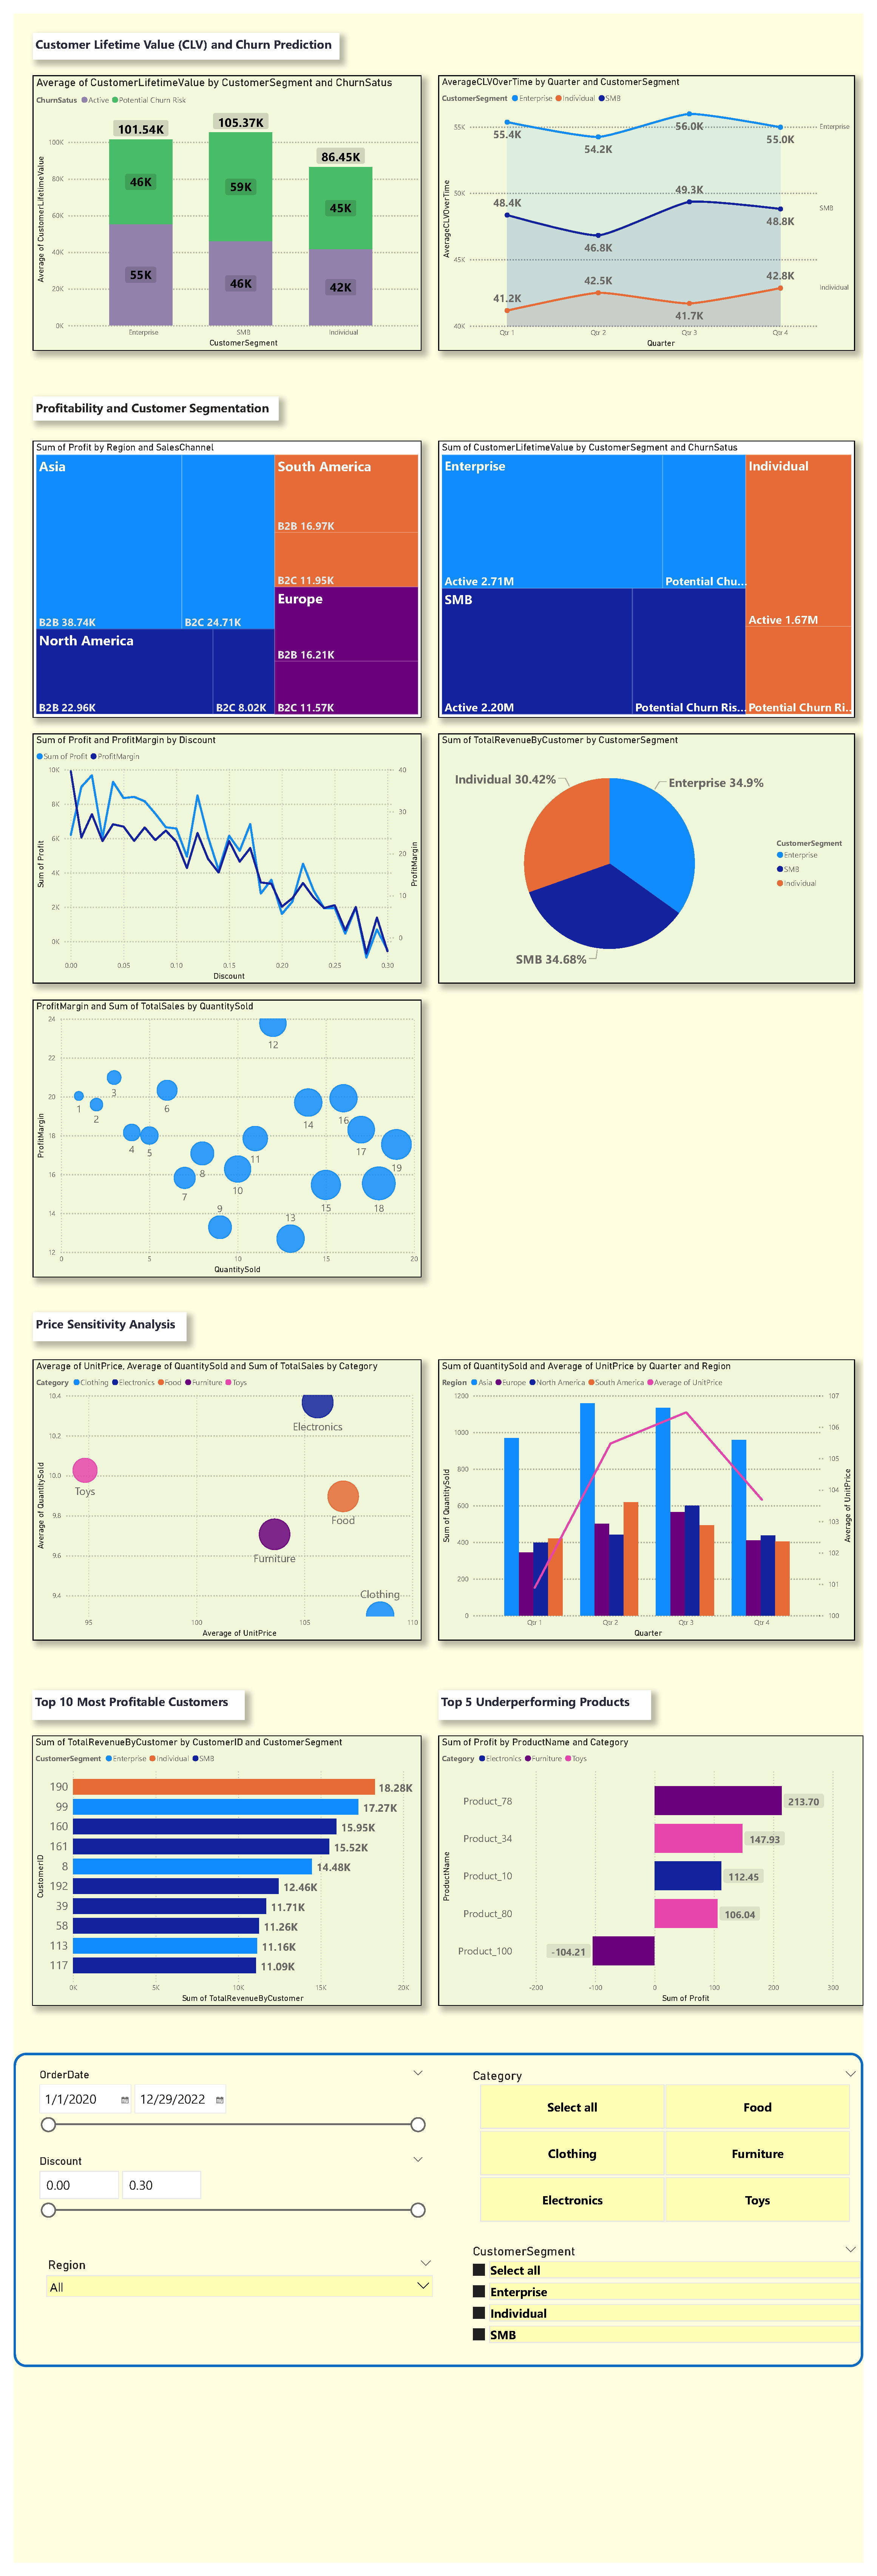

The dashboard page shown, as its layout file describes it:
{"tool":"powerbi","page":{"name":"finquest","canvas":[1500,4500],"ordinal":0},"visuals":[{"type":"shape","box":[0,3600,1500,555],"z":0},{"type":"treemap","fields":{"Group":["Orders.Region"],"Values":["Sum(Orders.Profit)"],"Details":["Orders.SalesChannel"]},"box":[33.7,753.6,686.2,489.9],"z":1000},{"type":"treemap","fields":{"Values":["Sum(Customers.CustomerLifetimeValue)"],"Group":["Customers.CustomerSegment"],"Details":["Customers.ChurnSatus"]},"box":[749.7,753.6,735.8,489.9],"z":2000},{"type":"pieChart","fields":{"Category":["Customers.CustomerSegment"],"Y":["Sum(Customers.TotalRevenueByCustomer)"]},"box":[749.7,1271.3,735.8,440.3],"z":3000},{"type":"scatterChart","fields":{"X":["Orders.QuantitySold"],"Y":["Orders.ProfitMargin"],"Size":["Sum(Orders.TotalSales)"]},"box":[33.7,1741.3,686.2,489.9],"z":4000},{"type":"lineChart","fields":{"Category":["Orders.Discount"],"Y":["Sum(Orders.Profit)"],"Y2":["Orders.ProfitMargin"]},"box":[33.7,1271.3,686.2,440.3],"z":5000},{"type":"scatterChart","fields":{"X":["Avg(Orders.UnitPrice)"],"Y":["Avg(Orders.QuantitySold)"],"Size":["Sum(Orders.TotalSales)"],"Series":["Products.Category"]},"box":[33.7,2375.9,686.2,495.8],"z":6000},{"type":"lineClusteredColumnComboChart","fields":{"Category":["Orders.OrderDate.Variation.Date Hierarchy.Quarter","Orders.OrderDate.Variation.Date Hierarchy.Month"],"Y":["Sum(Orders.QuantitySold)"],"Y2":["Avg(Orders.UnitPrice)"],"Series":["Orders.Region"]},"box":[749.7,2375.9,735.8,495.8],"z":7000},{"type":"textbox","box":[33.7,33.7,541.4,47.6],"z":8000},{"type":"columnChart","fields":{"Category":["Customers.CustomerSegment"],"Y":["Avg(Customers.CustomerLifetimeValue)"],"Series":["Customers.ChurnSatus"]},"box":[33.7,109.1,686.2,485.9],"z":9000},{"type":"lineChart","fields":{"Category":["Orders.OrderDate.Variation.Date Hierarchy.Quarter"],"Series":["Customers.CustomerSegment"],"Y":["Customers.AverageCLVOverTime"]},"box":[749.7,109.1,735.8,485.9],"z":10000},{"type":"textbox","box":[33.7,676.3,434.3,41.6],"z":11000},{"type":"textbox","box":[33.7,2292.6,271.7,51.6],"z":12000},{"type":"textbox","box":[33.3,2960,375,51.7],"z":13000},{"type":"barChart","fields":{"Category":["Customers.CustomerID"],"Y":["Sum(Customers.TotalRevenueByCustomer)"],"Series":["Customers.CustomerSegment"]},"box":[33.3,3040,686.7,476.7],"z":14000},{"type":"textbox","box":[750,2960,375,51.7],"z":15000},{"type":"barChart","fields":{"Category":["Products.ProductName"],"Y":["Sum(Orders.Profit)"],"Series":["Products.Category"]},"box":[750,3040,750,476.7],"z":16000},{"type":"slicer","fields":{"Values":["Orders.OrderDate"]},"box":[33.3,3621.7,701.7,166.7],"z":17000},{"type":"slicer","fields":{"Values":["Orders.Discount"]},"box":[33.3,3775,701.7,181.7],"z":18000},{"type":"slicer","fields":{"Values":["Products.Category"]},"box":[797.5,3622.5,702.5,282.5],"z":19000},{"type":"slicer","fields":{"Values":["Customers.CustomerSegment"]},"box":[798.3,3933.3,701.7,201.7],"z":20000},{"type":"slicer","fields":{"Values":["Customers.Region"]},"box":[48.3,3956.7,701.7,101.7],"z":21000}]}

Visuals, with their boxes in screenshot pixels (x1, y1, x2, y2), scaled from the page's 1500x4500 canvas onto the 877x2576 screenshot:
shape: detection(0, 2061, 877, 2379)
treemap - Orders.Region x Sum(Orders.Profit): detection(20, 431, 421, 712)
treemap - Sum(Customers.CustomerLifetimeValue) x Customers.CustomerSegment: detection(438, 431, 869, 712)
pieChart - Customers.CustomerSegment x Sum(Customers.TotalRevenueByCustomer): detection(438, 728, 869, 980)
scatterChart - Orders.QuantitySold x Orders.ProfitMargin: detection(20, 997, 421, 1277)
lineChart - Orders.Discount x Sum(Orders.Profit): detection(20, 728, 421, 980)
scatterChart - Avg(Orders.UnitPrice) x Avg(Orders.QuantitySold): detection(20, 1360, 421, 1644)
lineClusteredColumnComboChart - Orders.OrderDate.Variation.Date Hierarchy.Quarter x Orders.OrderDate.Variation.Date Hierarchy.Month: detection(438, 1360, 869, 1644)
textbox: detection(20, 19, 336, 46)
columnChart - Customers.CustomerSegment x Avg(Customers.CustomerLifetimeValue): detection(20, 62, 421, 341)
lineChart - Orders.OrderDate.Variation.Date Hierarchy.Quarter x Customers.CustomerSegment: detection(438, 62, 869, 341)
textbox: detection(20, 387, 273, 411)
textbox: detection(20, 1313, 179, 1342)
textbox: detection(20, 1694, 239, 1724)
barChart - Customers.CustomerID x Sum(Customers.TotalRevenueByCustomer): detection(20, 1740, 421, 2013)
textbox: detection(438, 1694, 658, 1724)
barChart - Products.ProductName x Sum(Orders.Profit): detection(438, 1740, 877, 2013)
slicer - Orders.OrderDate: detection(20, 2073, 430, 2169)
slicer - Orders.Discount: detection(20, 2161, 430, 2265)
slicer - Products.Category: detection(466, 2074, 877, 2235)
slicer - Customers.CustomerSegment: detection(467, 2252, 877, 2367)
slicer - Customers.Region: detection(28, 2265, 438, 2323)
